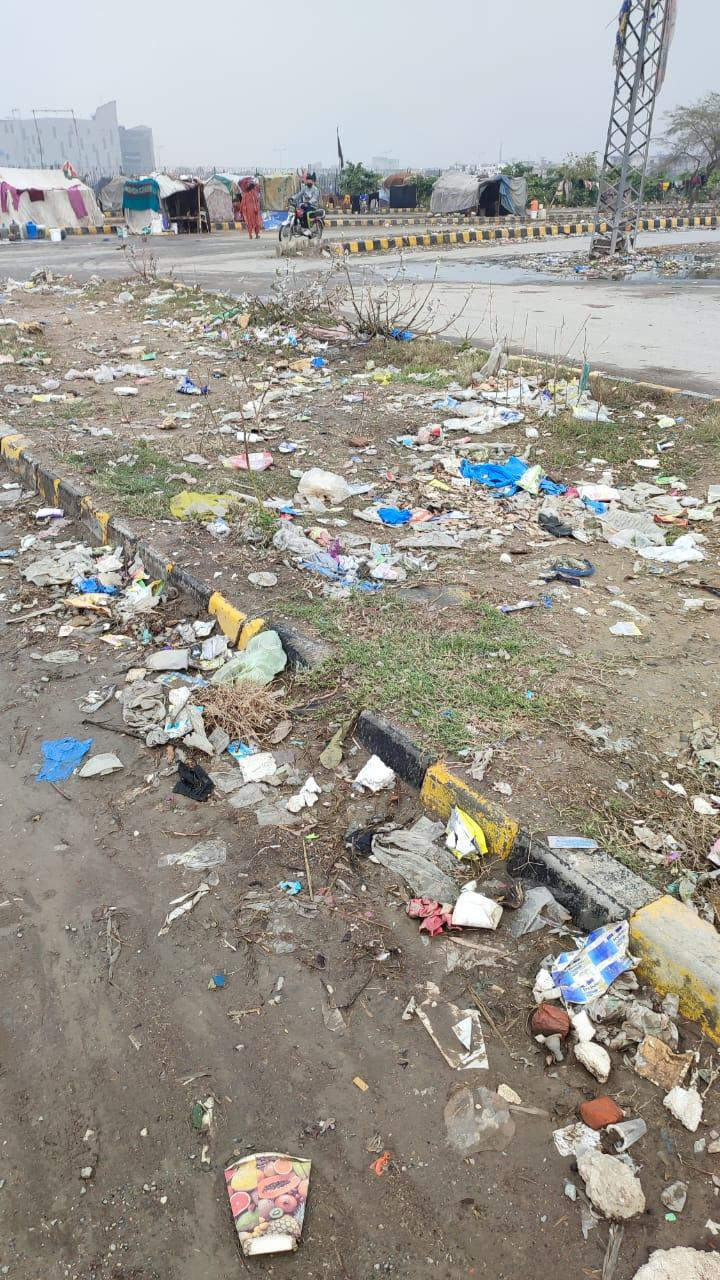garbage: (16, 276, 720, 1121)
